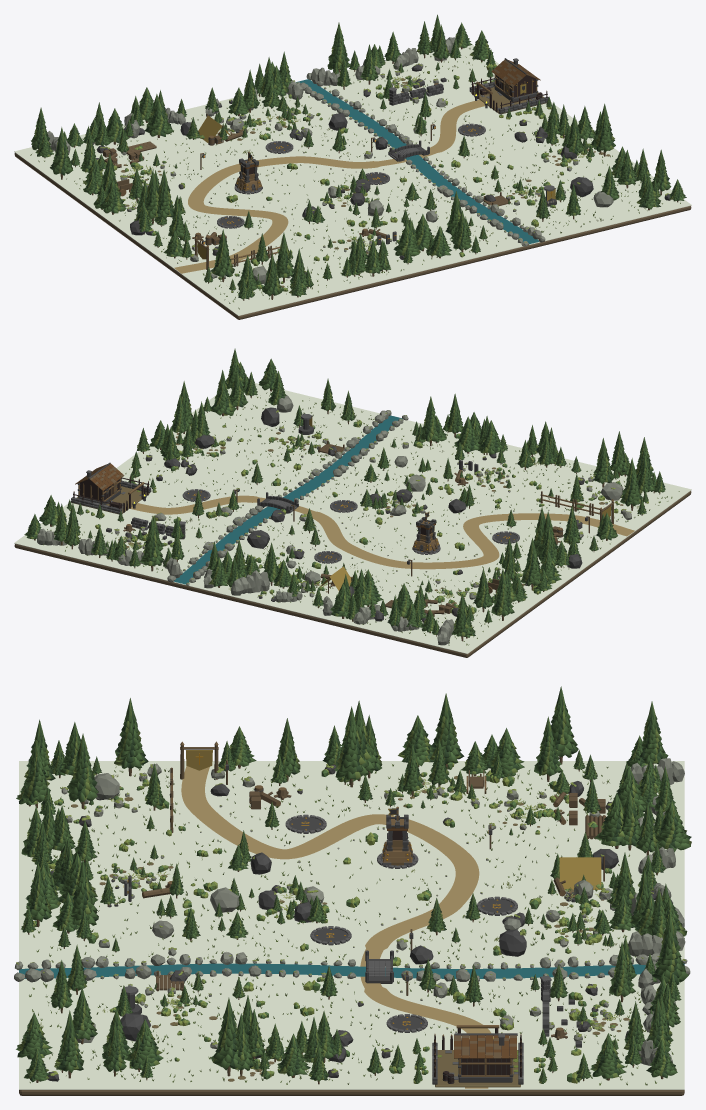
Rendered from Blackpine_V5_Map.fbx.
3 views of the same model, one above another, from view 1: azimuth 30°, elevation 25°; view 2: azimuth 150°, elevation 25°; view 3: azimuth 270°, elevation 25° (orthographic). The views are drawn at different scales.
Parts seen in each view (by area): view 1: Terrain, Forest, V3_Understory, Props, River, Rocks, Road, V4_Compact_Dark_Base, V3_Environmental_Stories, REFERENCE_PREVIEW_Tower_On_Pad_02, Bridge; view 2: Terrain, Forest, V3_Understory, Props, Rocks, River, Road, V4_Compact_Dark_Base, V3_Environmental_Stories, REFERENCE_PREVIEW_Tower_On_Pad_02; view 3: Terrain, Forest, V3_Understory, Props, Rocks, Road, River, V4_Compact_Dark_Base, V3_Environmental_Stories, REFERENCE_PREVIEW_Tower_On_Pad_02, Bridge, Tower_Pad_03.001 (+3 smaller).
Boxes of the visible parts, x1,y1,x2,y2 form: Terrain: (14, 42, 691, 319); Forest: (31, 14, 686, 300); V3_Understory: (30, 48, 680, 309); Props: (96, 62, 670, 274); River: (293, 73, 545, 246); Rocks: (47, 37, 613, 286); Road: (174, 92, 538, 273); V4_Compact_Dark_Base: (453, 58, 552, 119); V3_Environmental_Stories: (103, 141, 556, 245); REFERENCE_PREVIEW_Tower_On_Pad_02: (235, 152, 262, 193); Bridge: (388, 140, 429, 161); Terrain: (14, 383, 691, 657); Forest: (24, 348, 665, 641); V3_Understory: (43, 392, 679, 645); Props: (64, 403, 619, 622); Rocks: (37, 395, 638, 645); River: (167, 410, 408, 585); Road: (130, 495, 634, 569); V4_Compact_Dark_Base: (66, 462, 156, 522); V3_Environmental_Stories: (298, 413, 494, 616); REFERENCE_PREVIEW_Tower_On_Pad_02: (412, 511, 439, 553); Terrain: (19, 761, 684, 1095); Forest: (16, 686, 691, 1084); V3_Understory: (29, 756, 673, 1085); Props: (33, 741, 672, 1083); Rocks: (77, 758, 685, 1065); Road: (181, 766, 490, 1088); River: (14, 952, 690, 982); V4_Compact_Dark_Base: (412, 1025, 557, 1087); V3_Environmental_Stories: (108, 792, 605, 1016); REFERENCE_PREVIEW_Tower_On_Pad_02: (382, 806, 412, 865); Bridge: (365, 950, 393, 983); Tower_Pad_03.001: (477, 896, 517, 915).
Bounding box in the file's own units: 56.53 × 7.16 × 48.91.
